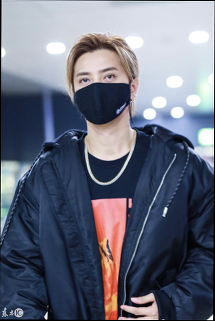with_mask: (73, 64, 132, 127)
